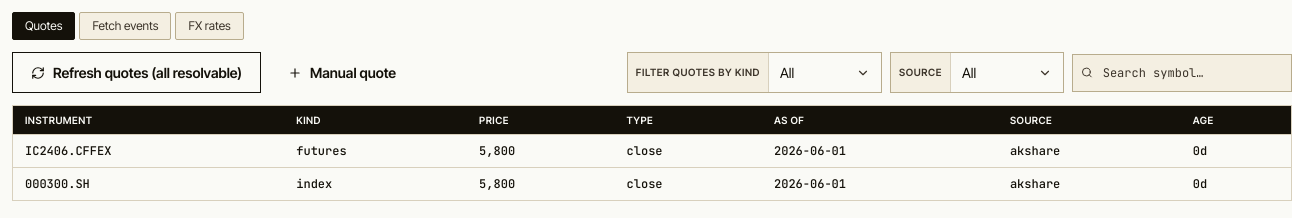
quotes filters and pagination › selecting a kind hides non-matching rows
Select "index" in the dropdown labelled "Filter quotes by kind" at (698, 72), box [628,53,769,92]
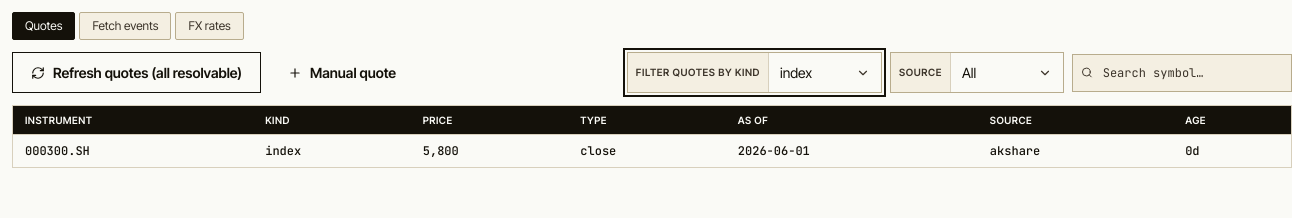
Check: the text "000300.SH" is shown, box [13,134,253,167]
Check: the text "IC2406.CFFEX" is gone
